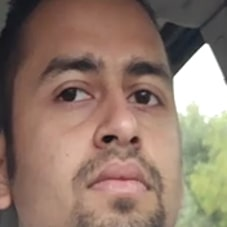awake: (34, 42, 181, 209)
